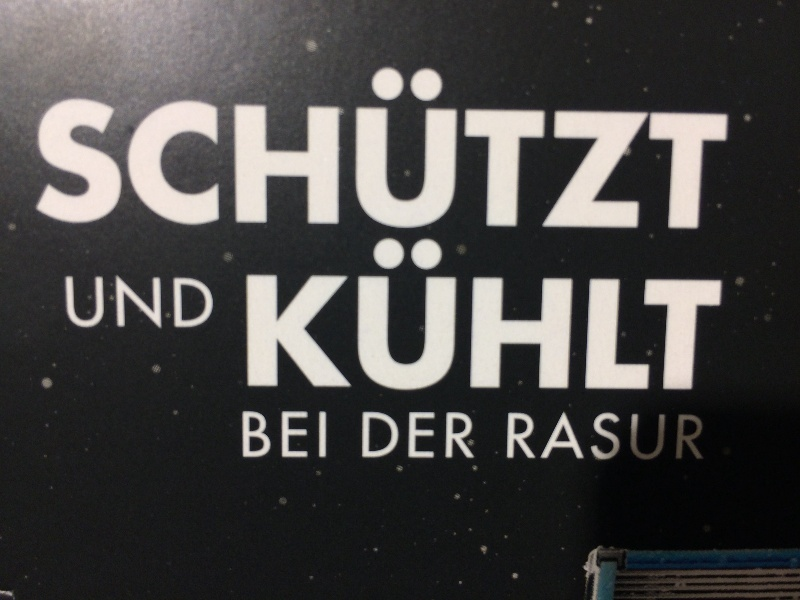text: (49, 65, 64, 232), (65, 65, 80, 232), (81, 65, 96, 232), (97, 65, 112, 232), (113, 65, 128, 232), (129, 65, 144, 232), (145, 65, 160, 232), (161, 65, 176, 232), (177, 65, 192, 232), (193, 65, 208, 232), (209, 65, 224, 232), (225, 65, 240, 232), (241, 65, 256, 232), (257, 65, 272, 232), (273, 65, 288, 232), (289, 65, 304, 232), (305, 65, 320, 232), (321, 65, 336, 232), (337, 65, 352, 232), (353, 65, 368, 232), (369, 65, 384, 232), (385, 65, 400, 232), (401, 65, 416, 232), (417, 65, 432, 232), (433, 65, 448, 232), (449, 65, 464, 232), (465, 65, 480, 232), (481, 65, 496, 232), (497, 65, 512, 232), (513, 65, 528, 232), (529, 65, 544, 232), (545, 65, 560, 232), (561, 65, 576, 232), (577, 65, 592, 232), (593, 65, 608, 232), (609, 65, 624, 232), (625, 65, 640, 232), (641, 65, 656, 232), (657, 65, 672, 232), (673, 65, 688, 232), (689, 65, 704, 232), (705, 65, 720, 232), (721, 65, 735, 232), (257, 238, 272, 392), (273, 238, 288, 392), (289, 238, 304, 392), (305, 238, 320, 392), (321, 238, 336, 392), (337, 238, 352, 392), (353, 238, 368, 392), (369, 238, 384, 392), (385, 238, 400, 392), (401, 238, 416, 392), (417, 238, 432, 392), (433, 238, 448, 392), (449, 238, 464, 392), (465, 238, 480, 392), (481, 238, 496, 392), (497, 238, 512, 392), (513, 238, 528, 392), (529, 238, 544, 392), (545, 238, 560, 392), (561, 238, 576, 392), (577, 238, 592, 392), (593, 238, 608, 392), (609, 238, 624, 392), (625, 238, 640, 392), (641, 238, 656, 392), (657, 238, 672, 392), (673, 238, 688, 392), (689, 238, 704, 392), (705, 238, 720, 392), (39, 65, 48, 232), (247, 238, 256, 392), (721, 238, 728, 392), (65, 276, 80, 330), (81, 276, 96, 330), (97, 276, 112, 330), (113, 276, 128, 330), (129, 276, 144, 330), (145, 276, 160, 330), (161, 276, 176, 330), (177, 276, 192, 330), (193, 276, 208, 330), (513, 411, 528, 461), (529, 411, 544, 461), (545, 411, 560, 461), (561, 411, 576, 461), (577, 411, 592, 461), (593, 411, 608, 461), (609, 411, 624, 461), (625, 411, 640, 461), (641, 411, 656, 461), (657, 411, 672, 461), (673, 411, 688, 461), (689, 411, 704, 461), (257, 411, 272, 459), (273, 411, 288, 459), (289, 411, 304, 459), (305, 411, 320, 459), (369, 412, 384, 459), (385, 412, 400, 459), (401, 412, 416, 459), (417, 412, 432, 459), (433, 412, 448, 459), (449, 412, 464, 459), (243, 411, 256, 459), (465, 412, 476, 459), (209, 276, 216, 330), (321, 411, 328, 459), (363, 412, 368, 459), (508, 411, 512, 461)
